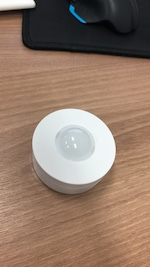bulb: (32, 108, 116, 194)
